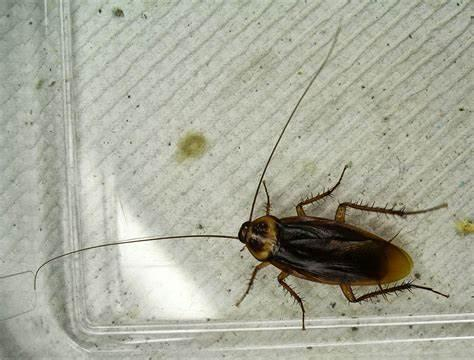cockroach: (228, 180, 419, 316)
